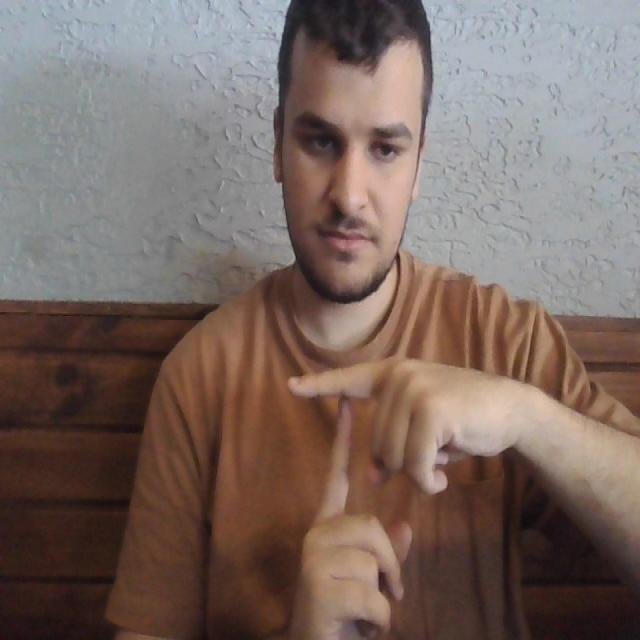Tesekkurler: (279, 342, 399, 544)
